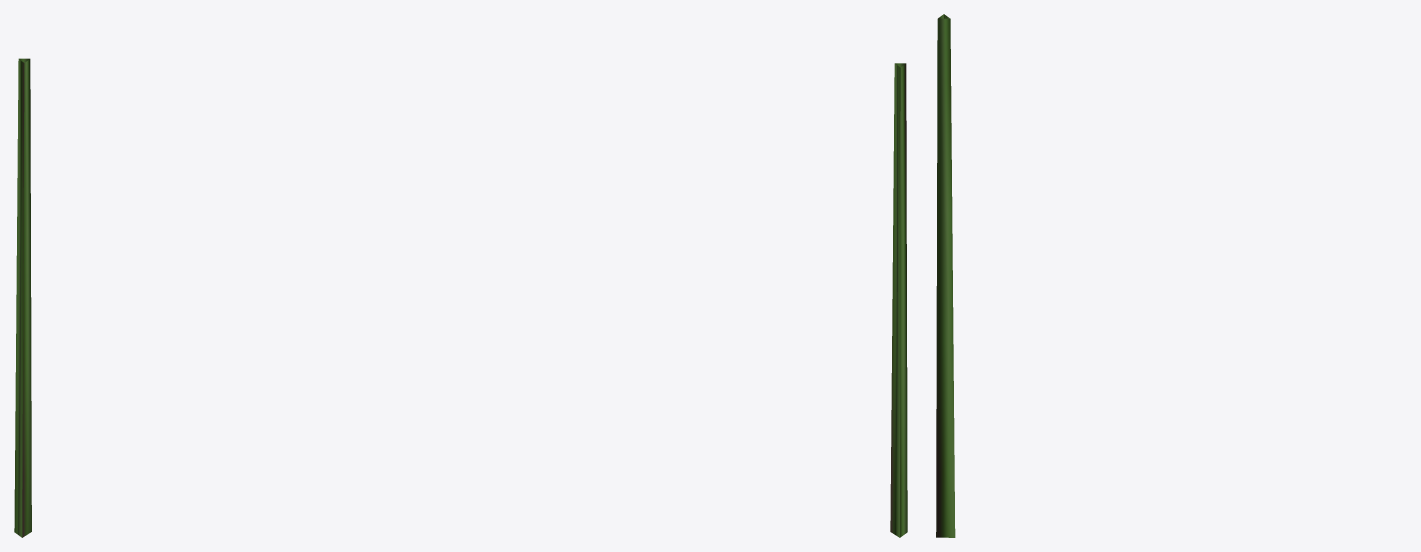
The picture shows the model from 3 angles, left to right: view 1: azimuth 30°, elevation 25°; view 2: azimuth 150°, elevation 25°; view 3: azimuth 330°, elevation 25°; orthographic projection. The views are drawn at different scales.
Parts seen in each view (by area): view 1: T1L2M008_22; view 2: T1L2M008_22; view 3: T1L2M008_22.
Part boxes in pixels (left/top/right/bottom): T1L2M008_22: left=14, top=58, right=31, bottom=537; T1L2M008_22: left=890, top=63, right=907, bottom=537; T1L2M008_22: left=936, top=14, right=955, bottom=537.
Bounding box in the file's own units: 1.73 × 1.83 × 0.2752.
